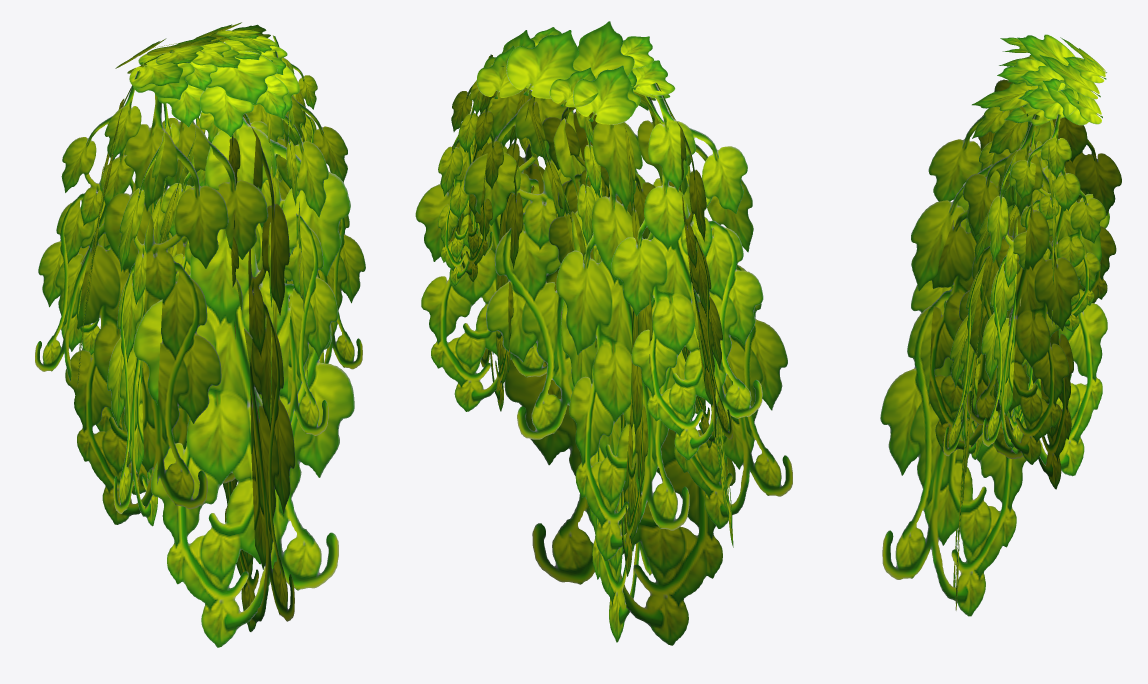
File: HangingPlant01_Dream.glb
3 views of the same model, side by side, from view 1: azimuth 30°, elevation 25°; view 2: azimuth 150°, elevation 25°; view 3: azimuth 270°, elevation 25° (orthographic). The views are drawn at different scales.
Visible parts, largest first — view 1: HangingPlant01_dream; view 2: HangingPlant01_dream; view 3: HangingPlant01_dream.
Part boxes in pixels (bbox=[...]): HangingPlant01_dream: bbox=[35, 22, 365, 647]; HangingPlant01_dream: bbox=[415, 21, 792, 645]; HangingPlant01_dream: bbox=[880, 34, 1121, 616].
Size of the model in its own units: 1.09 by 1.97 by 0.8744.
1 material, 1 textured.
